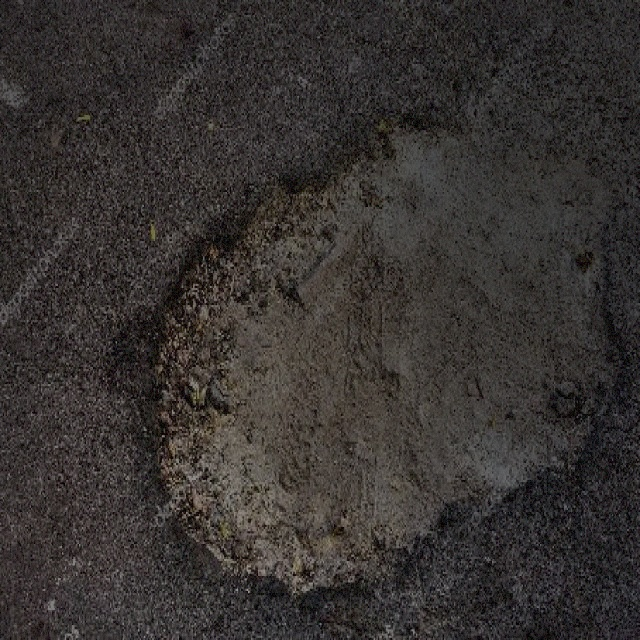pothole: (103, 88, 638, 600)
